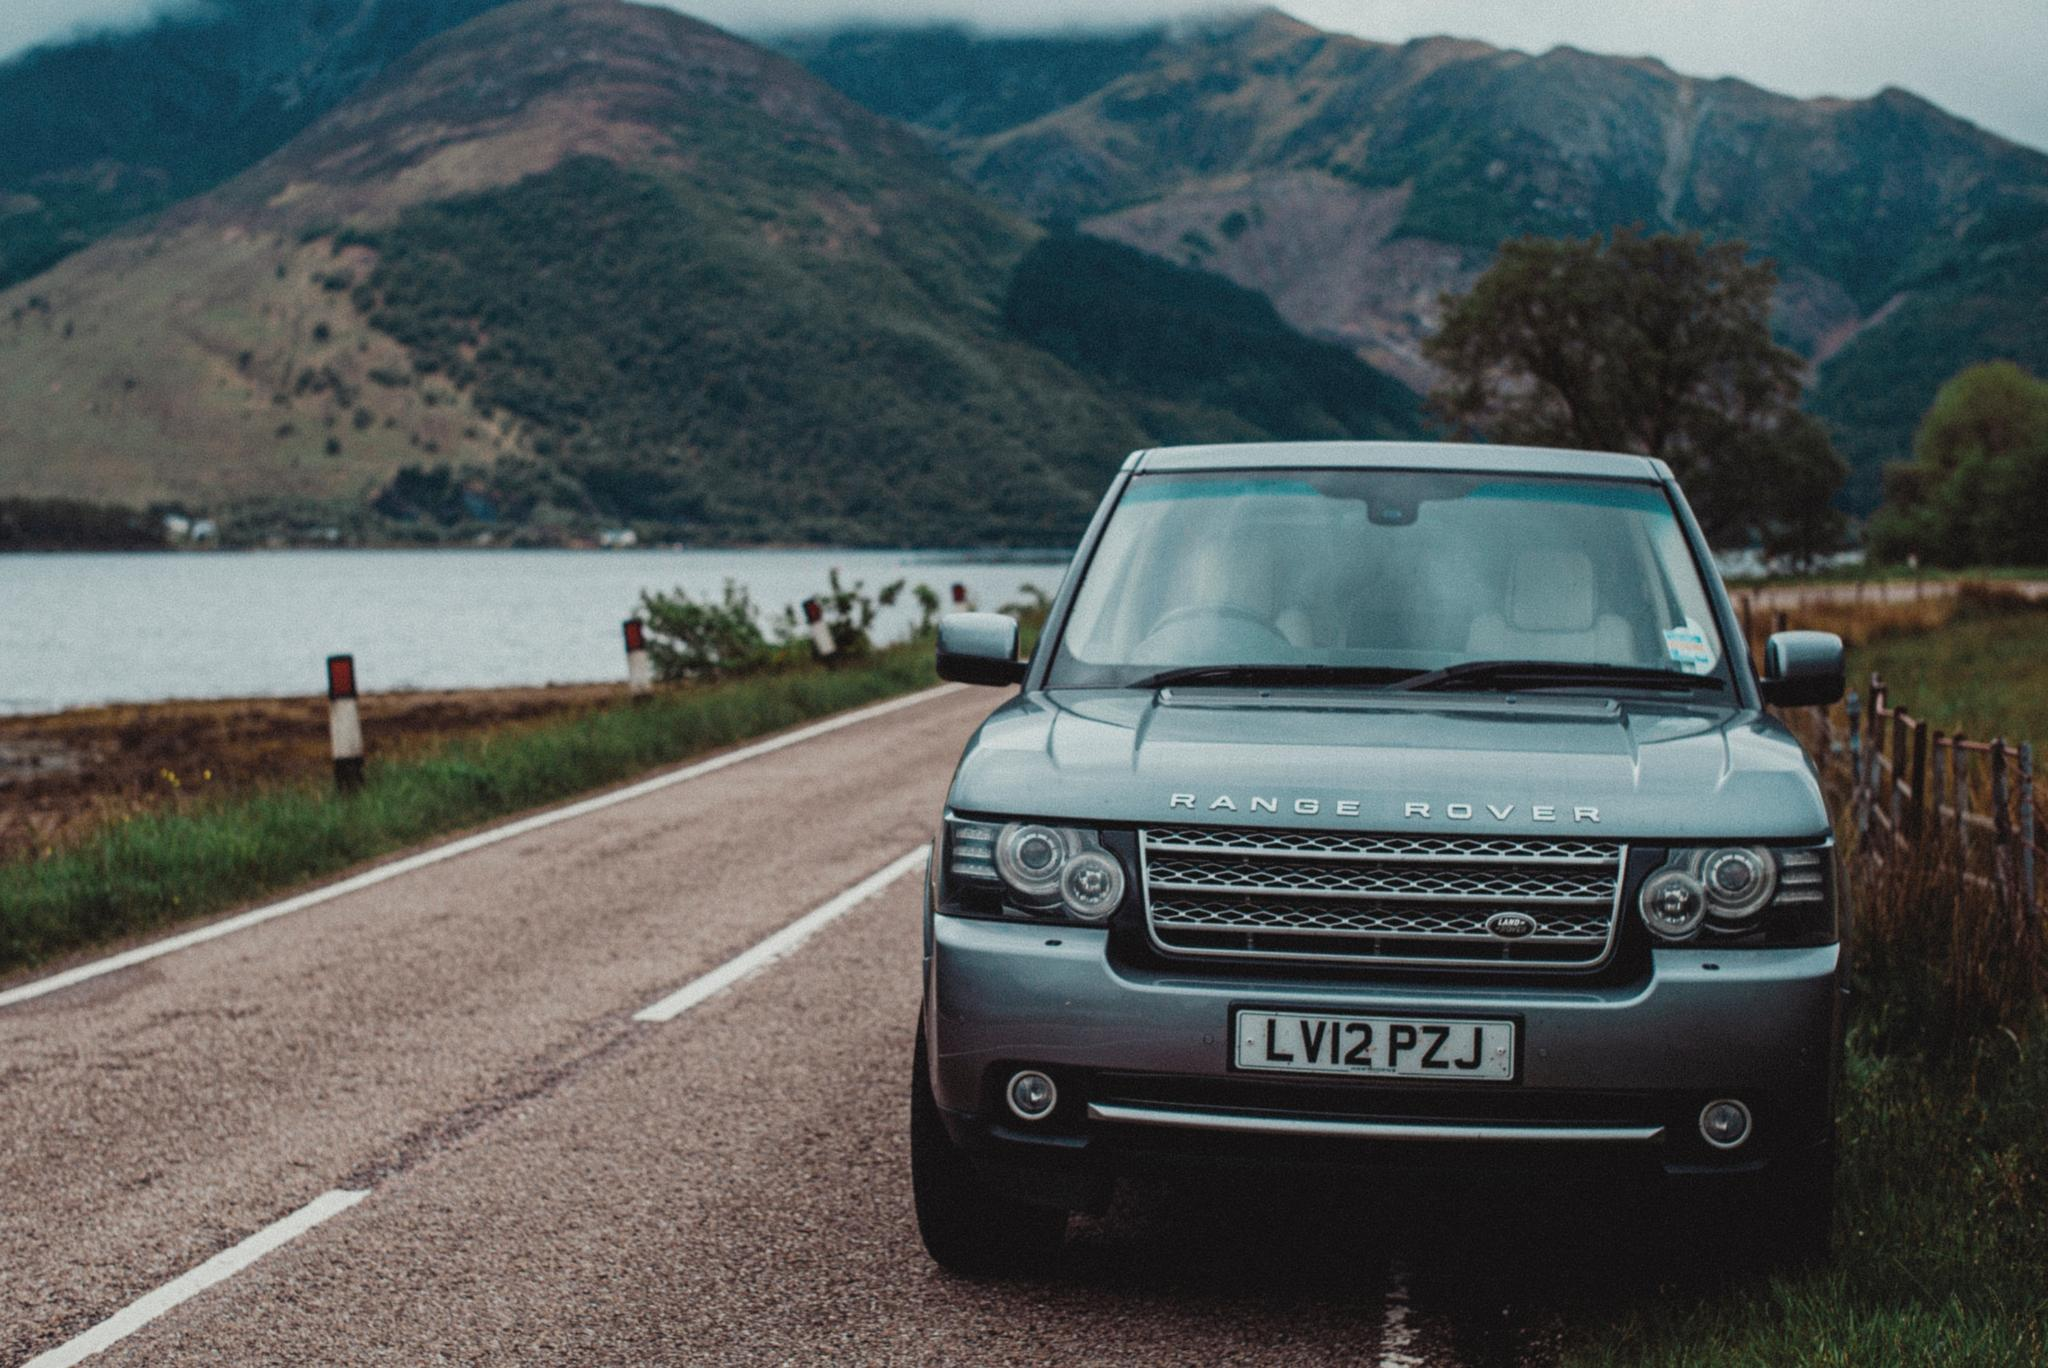range rover: (1143, 768, 1621, 841)
